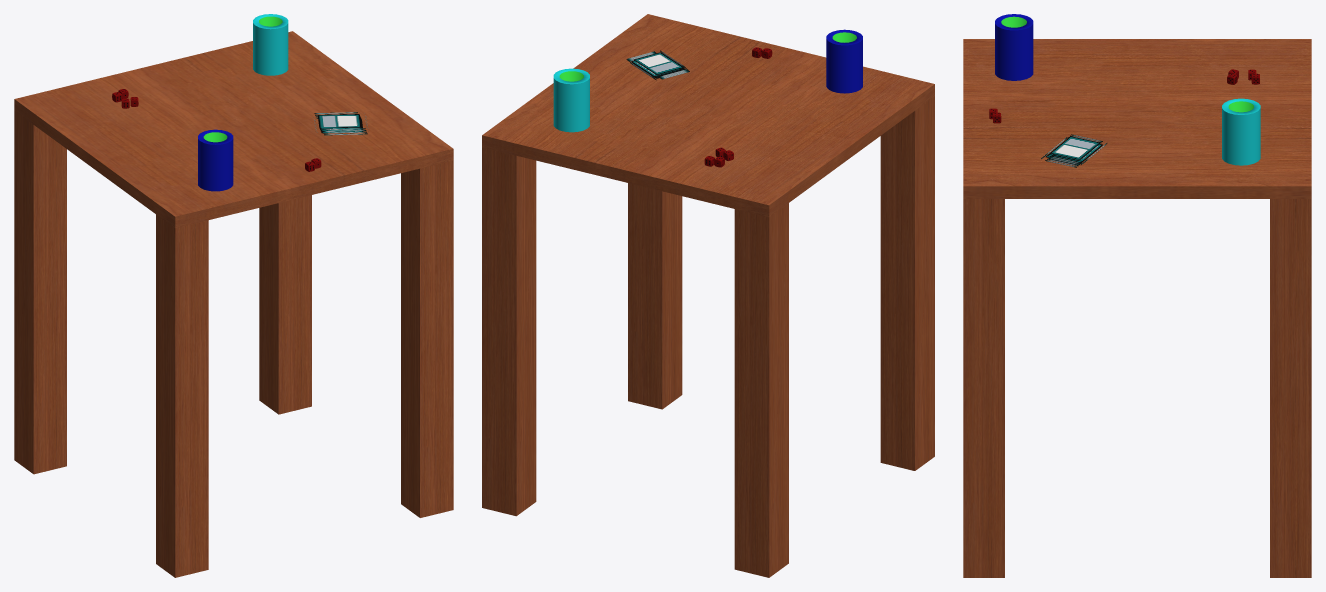
File: a1_table2.FBX
The picture shows the model from 3 angles, left to right: view 1: azimuth 30°, elevation 25°; view 2: azimuth 150°, elevation 25°; view 3: azimuth 270°, elevation 25°; orthographic projection. The views are drawn at different scales.
Visible parts, largest first — view 1: tableTop, leg4, leg1, leg2, leg3, cup2, cup1, card001; view 2: tableTop, leg2, leg3, leg4, leg1, cup1, cup2, card001; view 3: tableTop, leg3, leg1, cup2, cup1, card001.
Boxes of the visible parts, x1,y1,x2,y2 form: tableTop: [14, 31, 453, 228]; leg4: [156, 214, 208, 577]; leg1: [401, 160, 453, 517]; leg2: [14, 111, 66, 474]; leg3: [259, 195, 311, 414]; cup2: [253, 14, 288, 75]; cup1: [198, 129, 233, 191]; card001: [313, 112, 366, 130]; tableTop: [482, 14, 934, 217]; leg2: [734, 203, 788, 577]; leg3: [482, 147, 536, 516]; leg4: [880, 96, 934, 470]; leg1: [628, 183, 682, 409]; cup1: [826, 29, 862, 93]; cup2: [553, 68, 589, 132]; card001: [626, 50, 687, 77]; tableTop: [963, 39, 1311, 198]; leg3: [1270, 199, 1311, 577]; leg1: [963, 199, 1004, 577]; cup2: [1222, 98, 1260, 165]; cup1: [995, 14, 1033, 80]; card001: [1045, 134, 1107, 163].
Size of the model in its own units: 25 by 35 by 25.
Materials: 7 (2 with a texture image).
